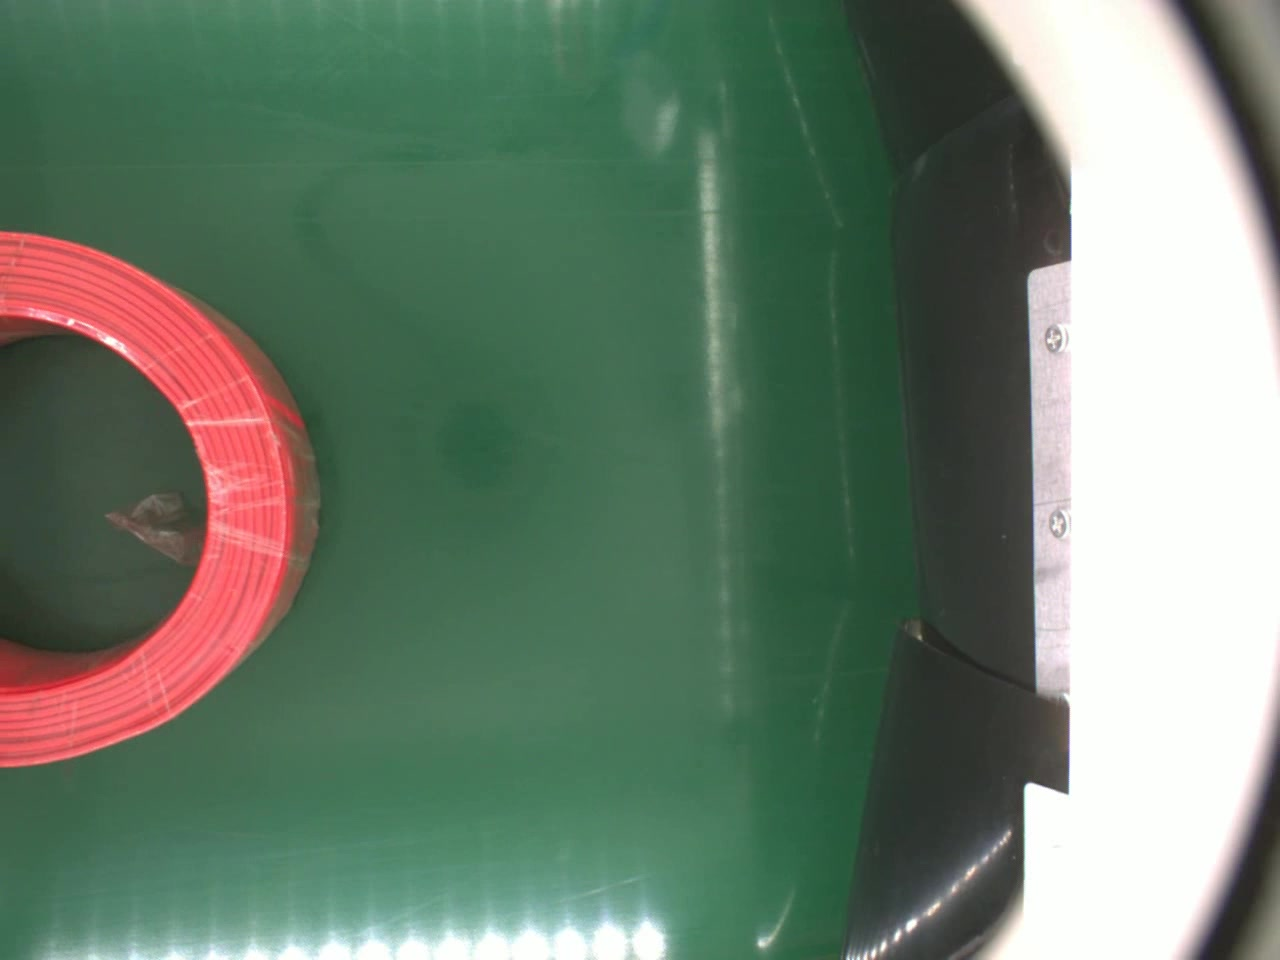red: (0, 224, 329, 762)
